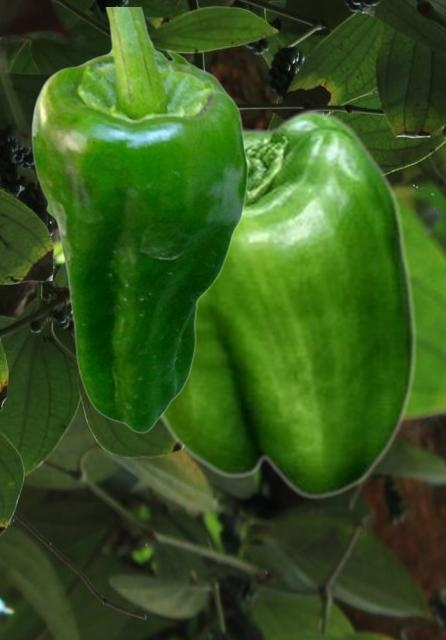bell_pepper: (158, 104, 417, 499), (30, 7, 248, 433)
